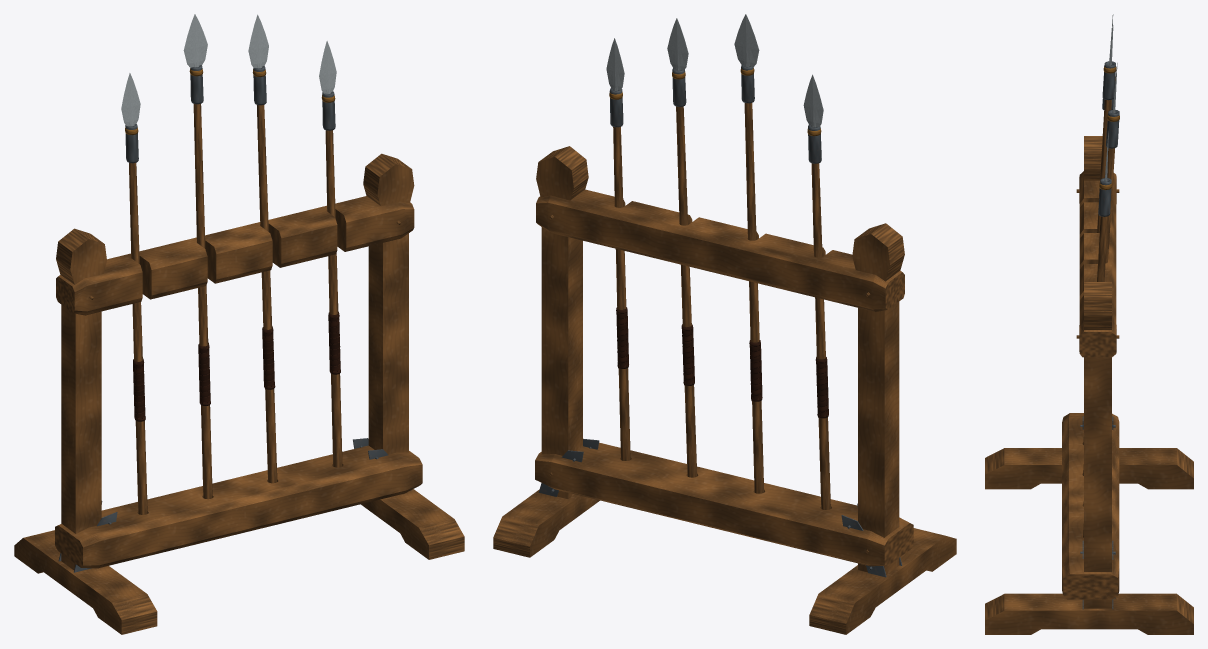
Rendered from frontier_field_arms_rack_lod2.glb.
The picture shows the model from 3 angles, left to right: view 1: azimuth 30°, elevation 25°; view 2: azimuth 150°, elevation 25°; view 3: azimuth 270°, elevation 25°; orthographic projection. The views are drawn at different scales.
Visible parts, largest first — view 1: frontier_field_arms_rack.oak, frontier_field_arms_rack.steel, frontier_field_arms_rack.leather, frontier_field_arms_rack.iron; view 2: frontier_field_arms_rack.oak, frontier_field_arms_rack.steel, frontier_field_arms_rack.leather, frontier_field_arms_rack.iron; view 3: frontier_field_arms_rack.oak, frontier_field_arms_rack.iron, frontier_field_arms_rack.steel.
Boxes of the visible parts, x1,y1,x2,y2 form: frontier_field_arms_rack.oak: (14, 104, 464, 634); frontier_field_arms_rack.steel: (121, 14, 336, 126); frontier_field_arms_rack.leather: (133, 311, 340, 421); frontier_field_arms_rack.iron: (58, 65, 411, 572); frontier_field_arms_rack.oak: (493, 103, 956, 634); frontier_field_arms_rack.steel: (606, 14, 823, 127); frontier_field_arms_rack.leather: (616, 307, 828, 418); frontier_field_arms_rack.iron: (538, 64, 902, 577); frontier_field_arms_rack.oak: (985, 99, 1193, 634); frontier_field_arms_rack.iron: (1080, 61, 1119, 609); frontier_field_arms_rack.steel: (1104, 14, 1117, 181).
Size of the model in its own units: 1.59 by 2.38 by 0.86.
Materials: 5 (5 with a texture image).
